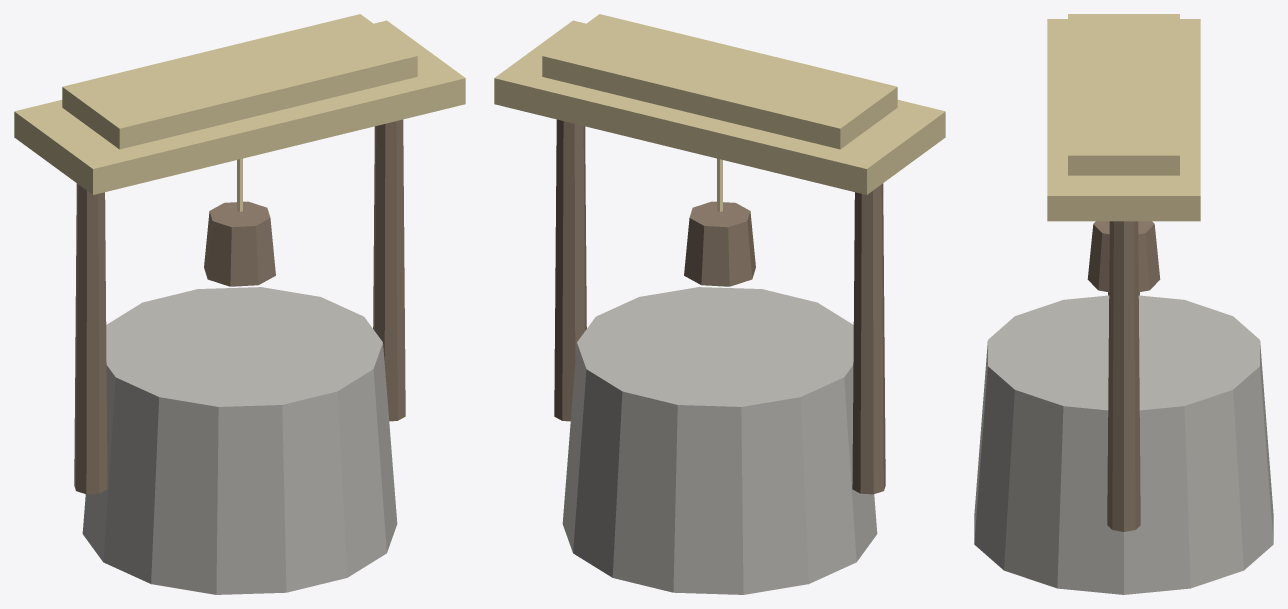
Rendered from SM_Prop_Well.fbx.
3 renders of one model, left to right at view 1: azimuth 30°, elevation 25°; view 2: azimuth 150°, elevation 25°; view 3: azimuth 270°, elevation 25°, orthographic. The views are drawn at different scales.
Parts seen in each view (by area): view 1: Well; view 2: Well; view 3: Well.
Boxes of the visible parts, <box> form: Well: <box>14,14,465,594</box>; Well: <box>494,14,945,594</box>; Well: <box>974,14,1273,594</box>.
Size of the model in its own units: 1.5 by 1.76 by 1.07.
